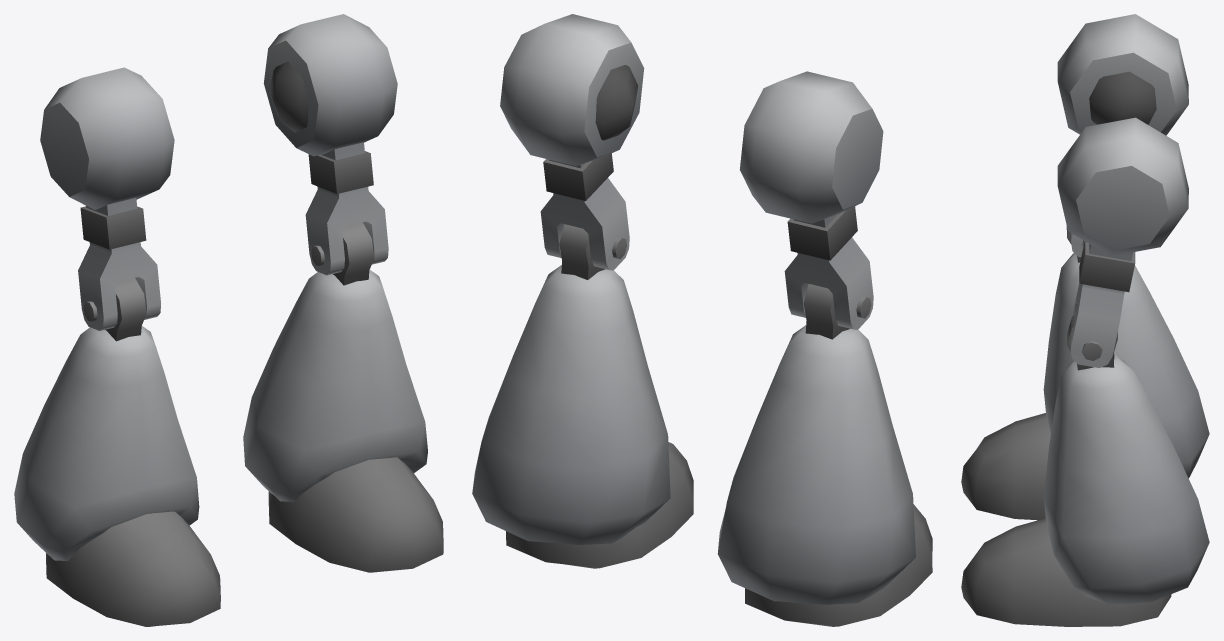
Rendered from robot legs 1.fbx.
3 renders of one model, left to right at view 1: azimuth 30°, elevation 25°; view 2: azimuth 150°, elevation 25°; view 3: azimuth 270°, elevation 25°, orthographic. The views are drawn at different scales.
Parts seen in each view (by area): view 1: R1_Leg.R; view 2: R1_Leg.R; view 3: R1_Leg.R.
Part boxes in pixels (x1,y1,x2,y2): R1_Leg.R: (14, 14, 443, 626); R1_Leg.R: (472, 14, 932, 626); R1_Leg.R: (961, 14, 1209, 626).
Size of the model in its own units: 0.678 by 0.825 by 0.3898.
